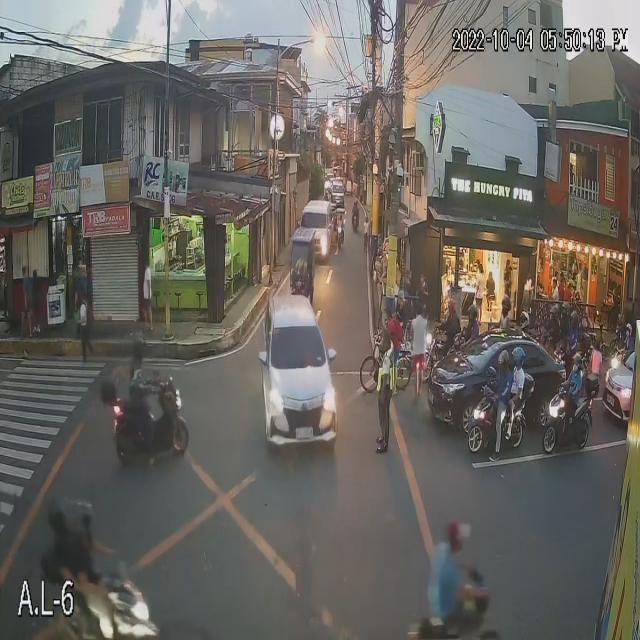helmet: (68, 501, 97, 534), (48, 501, 74, 537), (132, 335, 146, 364), (513, 345, 528, 367), (498, 349, 508, 374), (570, 354, 584, 371), (467, 303, 477, 325), (518, 309, 529, 329), (550, 305, 560, 327), (569, 310, 580, 330), (500, 296, 512, 314), (559, 299, 571, 317), (447, 298, 458, 315), (626, 321, 633, 338)
motorcycle: (41, 563, 159, 640), (111, 373, 189, 463), (467, 383, 526, 453), (542, 383, 594, 453), (425, 330, 465, 382), (608, 345, 633, 378), (350, 211, 360, 232)
rider: (70, 498, 109, 606), (40, 499, 74, 586), (483, 346, 512, 438), (124, 338, 152, 431), (562, 351, 589, 423), (511, 341, 531, 411), (493, 293, 517, 332), (462, 302, 483, 343), (443, 296, 459, 346), (567, 309, 584, 345), (513, 309, 532, 340), (546, 305, 560, 347), (622, 317, 636, 351), (560, 298, 572, 330), (352, 200, 359, 216)
